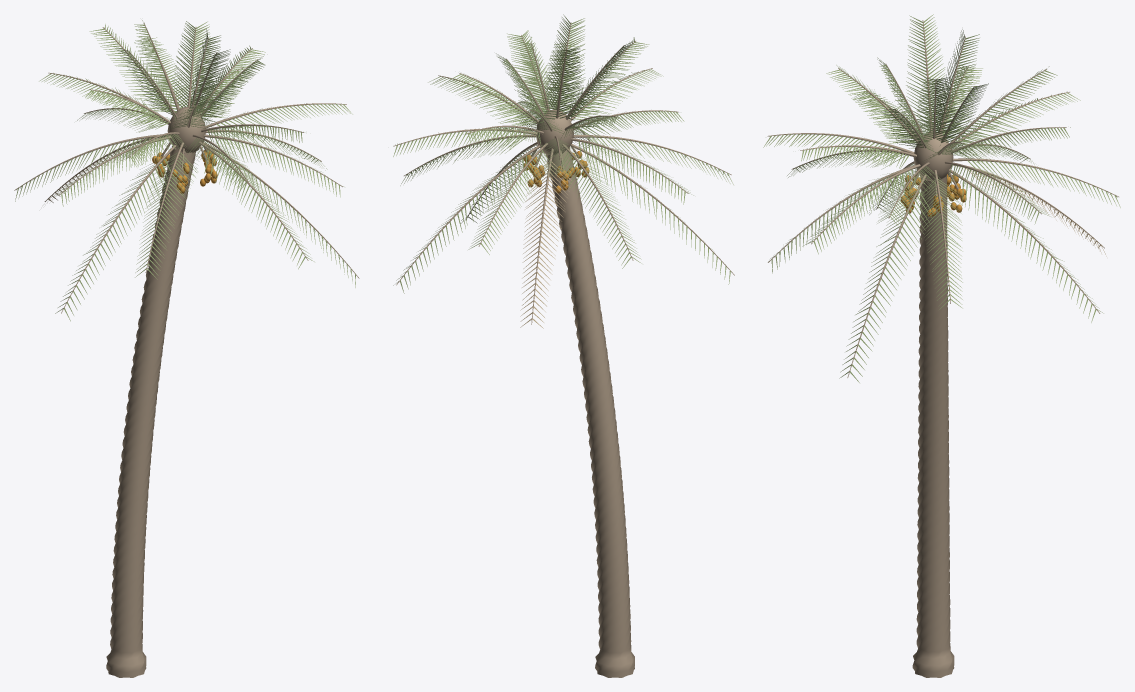
Rendered from SM_DatePalm_B.fbx.
3 views of the same model, side by side, from view 1: azimuth 30°, elevation 25°; view 2: azimuth 150°, elevation 25°; view 3: azimuth 270°, elevation 25° (orthographic). The views are drawn at different scales.
Visible parts, largest first — view 1: SM_DatePalm_B; view 2: SM_DatePalm_B; view 3: SM_DatePalm_B.
Part boxes in pixels (x1=…): SM_DatePalm_B: x1=14, y1=20, x2=359, y2=677; SM_DatePalm_B: x1=393, y1=14, x2=734, y2=677; SM_DatePalm_B: x1=763, y1=14, x2=1120, y2=677.
Bounding box in the file's own units: 752 × 1516 × 753.
